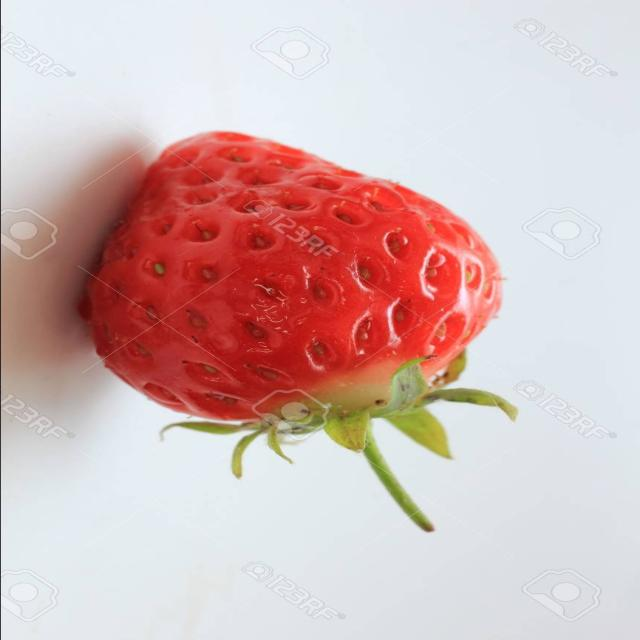strawberry: (58, 117, 523, 540)
